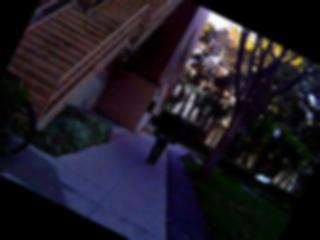Escaleras: (0, 0, 178, 158)
